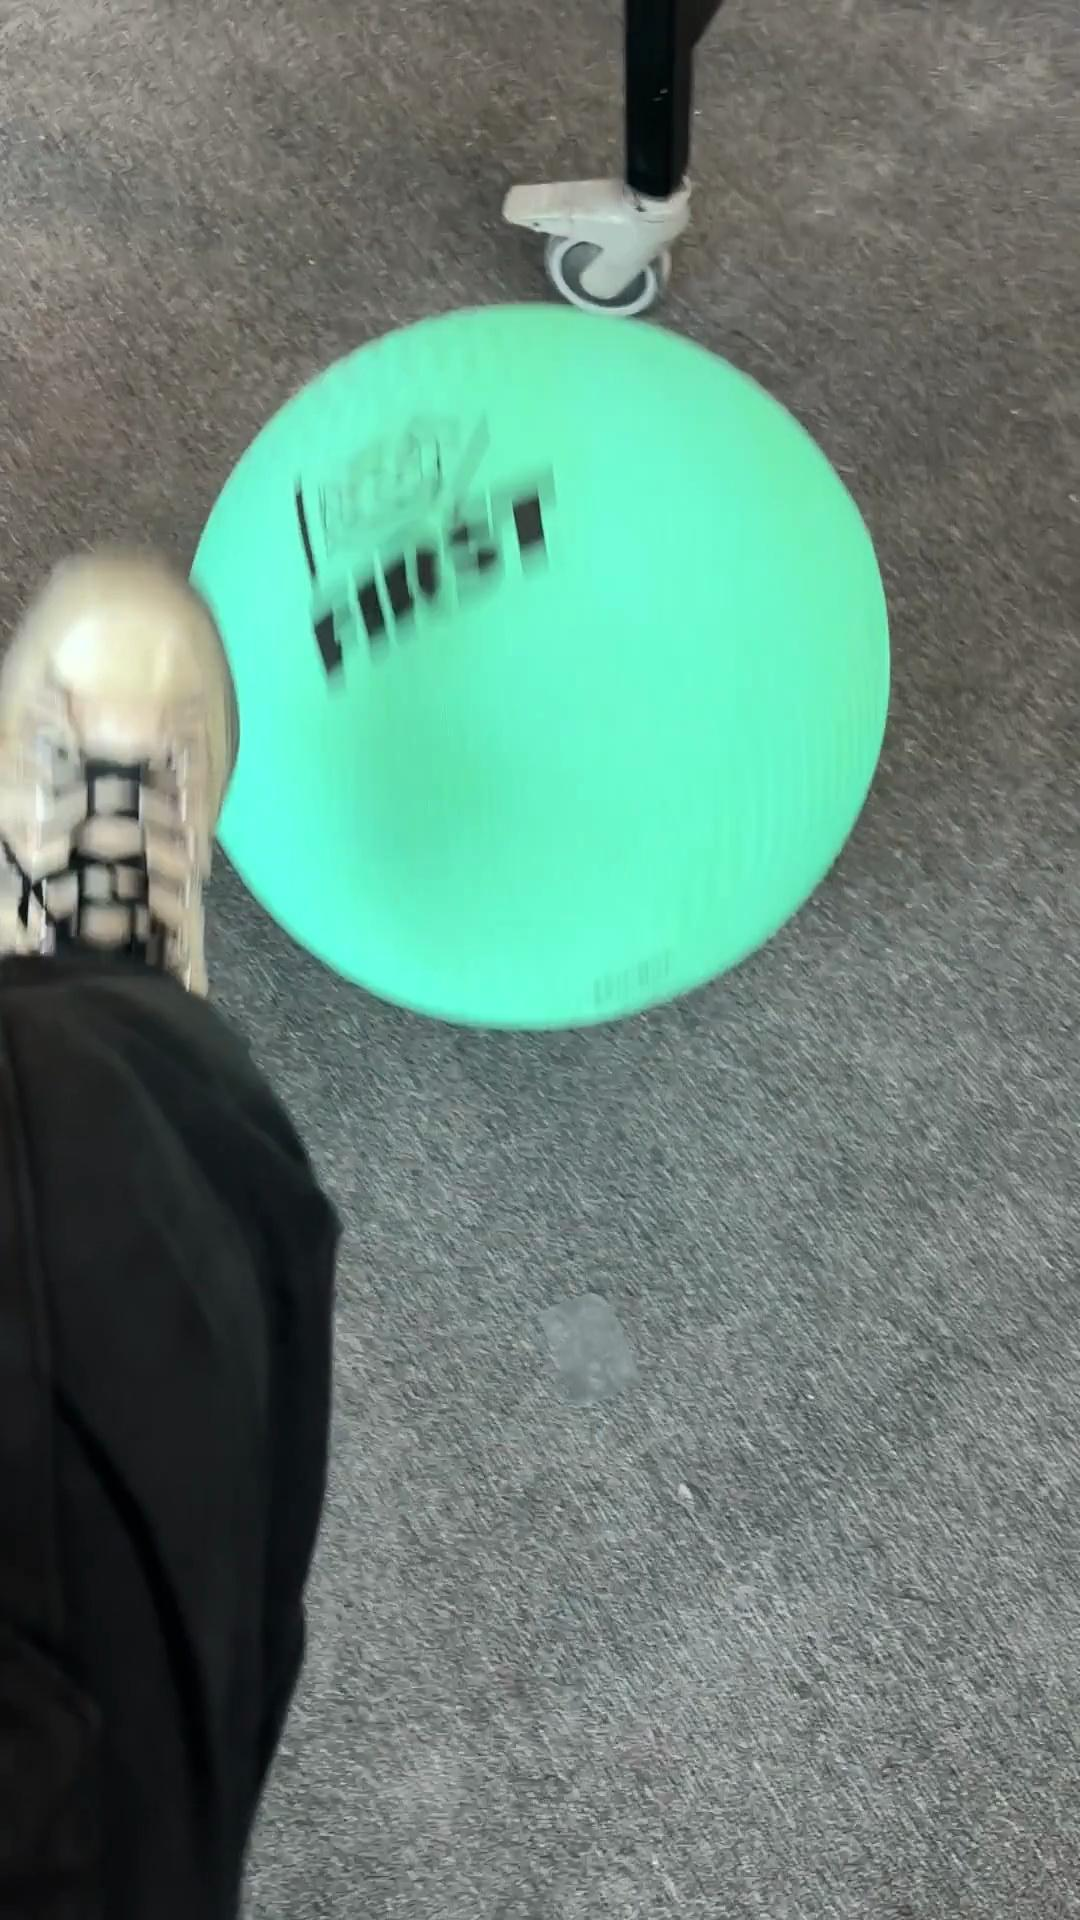ALGAE: (186, 297, 893, 1034)
